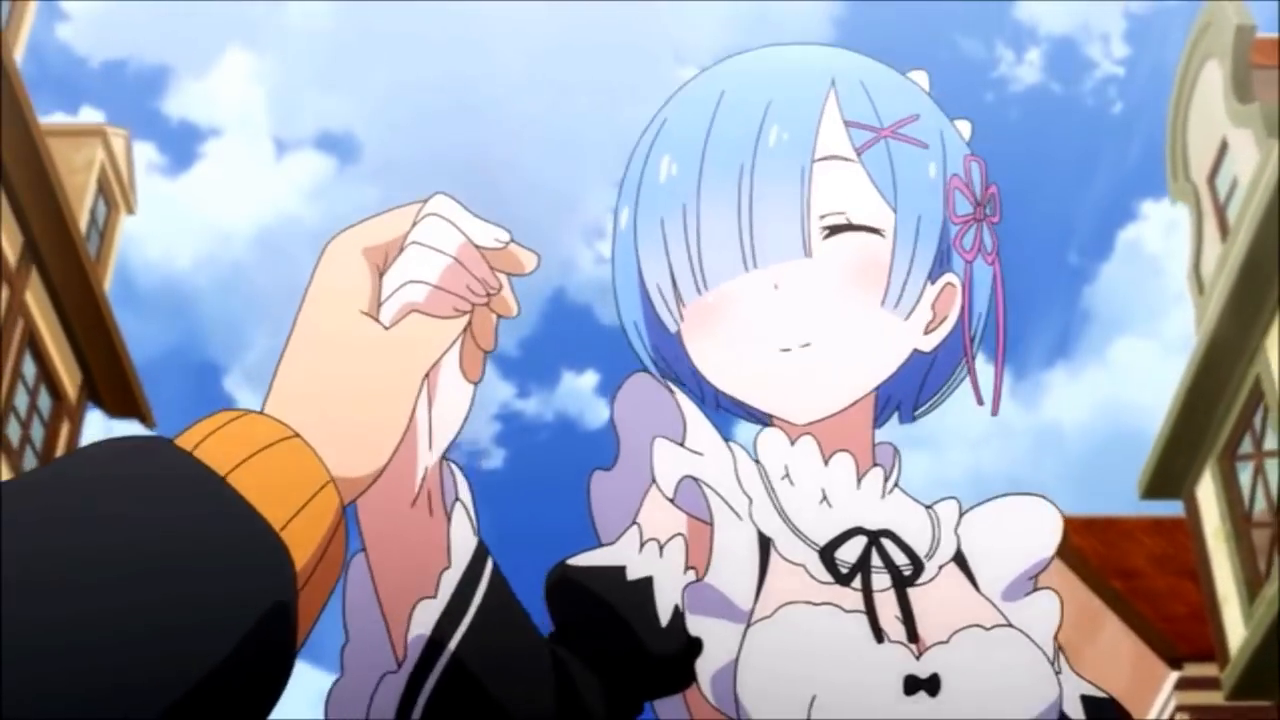REM: (604, 40, 1002, 425)
